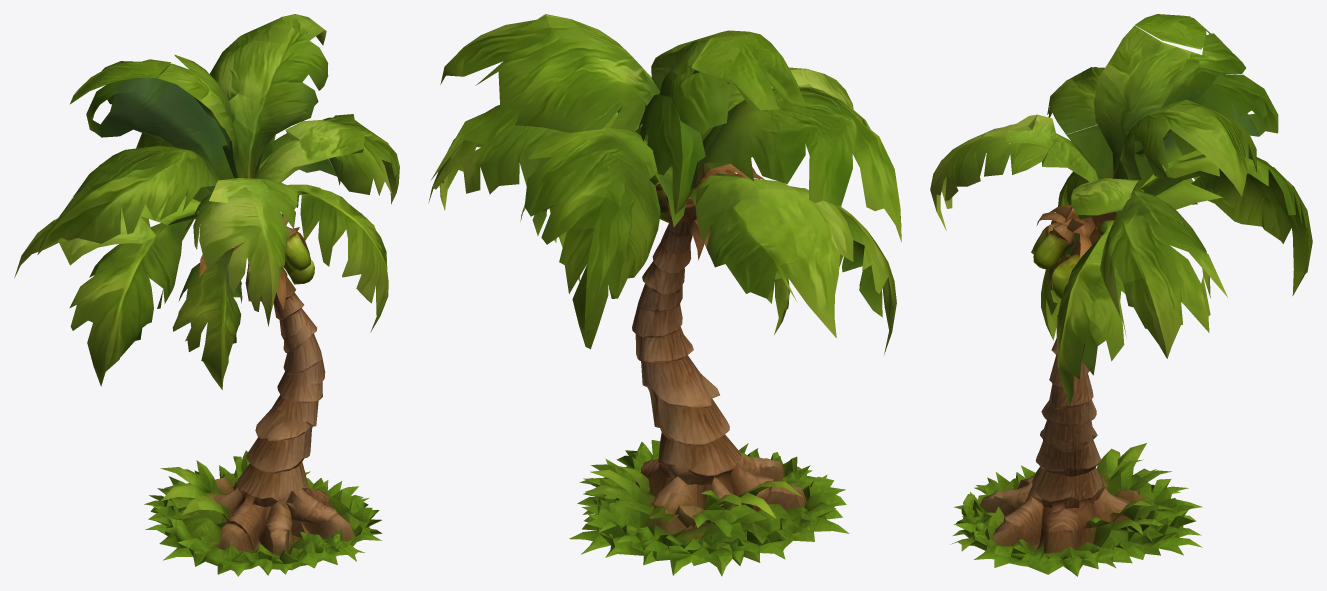
The model's file is tree-coconut-palm.glb.
3 views of the same model, side by side, from view 1: azimuth 30°, elevation 25°; view 2: azimuth 150°, elevation 25°; view 3: azimuth 270°, elevation 25° (orthographic). The views are drawn at different scales.
Visible parts, largest first — view 1: Tree_Coconut_Palm; view 2: Tree_Coconut_Palm; view 3: Tree_Coconut_Palm.
Part boxes in pixels (left/top/right/bottom): Tree_Coconut_Palm: left=14, top=14, right=399, bottom=576; Tree_Coconut_Palm: left=428, top=14, right=901, bottom=576; Tree_Coconut_Palm: left=930, top=14, right=1312, bottom=576.
Bounding box in the file's own units: 8.78 × 10 × 7.46.
Materials: 1 (1 with a texture image).
